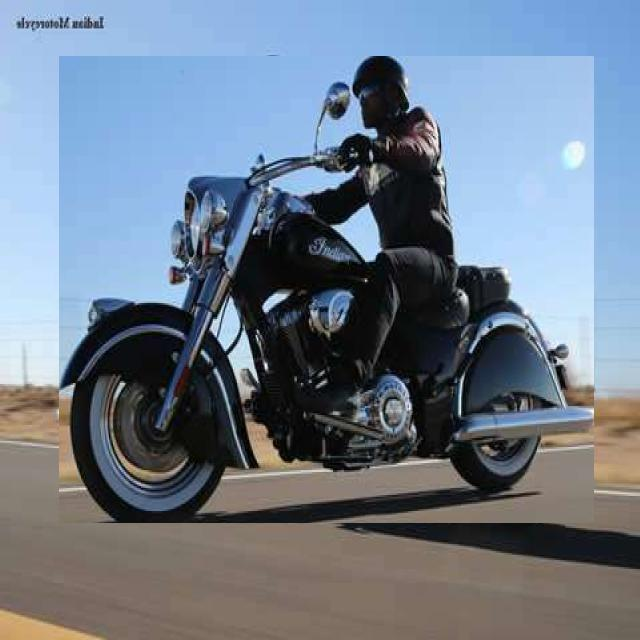motorcycle: (59, 57, 594, 523)
